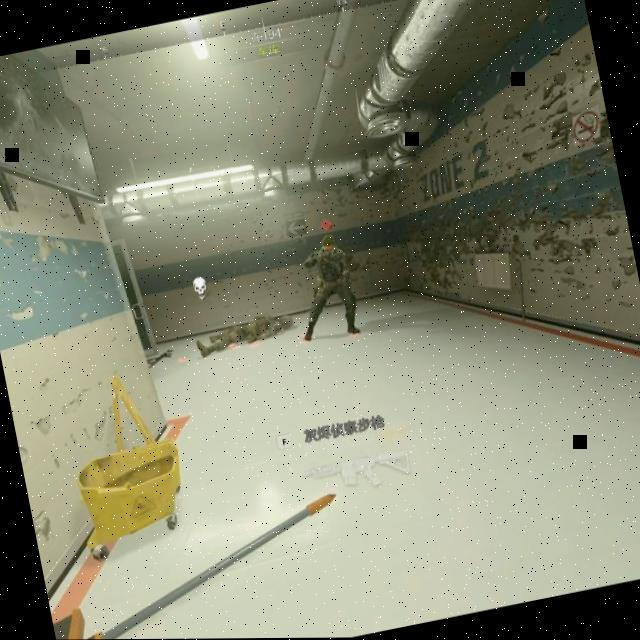MW2_body: (283, 217, 363, 345)
